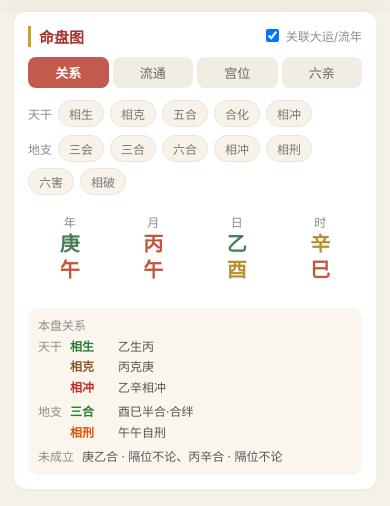
六亲 tab › shows ten-god→relative mapping and the legend with gender notes
This screenshot has width=390, height=506.
Click the button with test id "tab-liuqin" at [322, 72], box [282, 57, 362, 88]
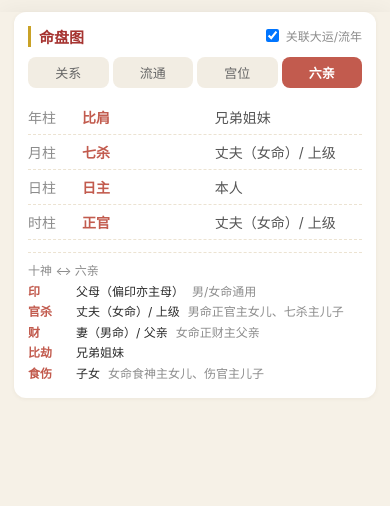
Now the text with test id "god-year" reads "比肩", box [82, 109, 110, 126]
Now the text with test id "relative-year" reads "兄弟姐妹", box [215, 109, 271, 126]
Now the text with test id "relative-day" reads "本人", box [215, 179, 243, 196]
